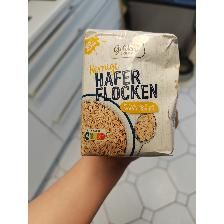Cerealien: (78, 27, 180, 160)
